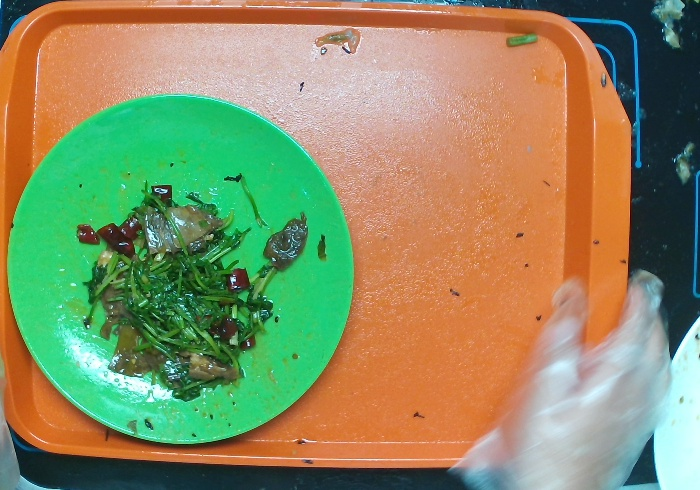HZYJPL-Lv_Se_Yuan_Pan: (5, 93, 358, 449)
